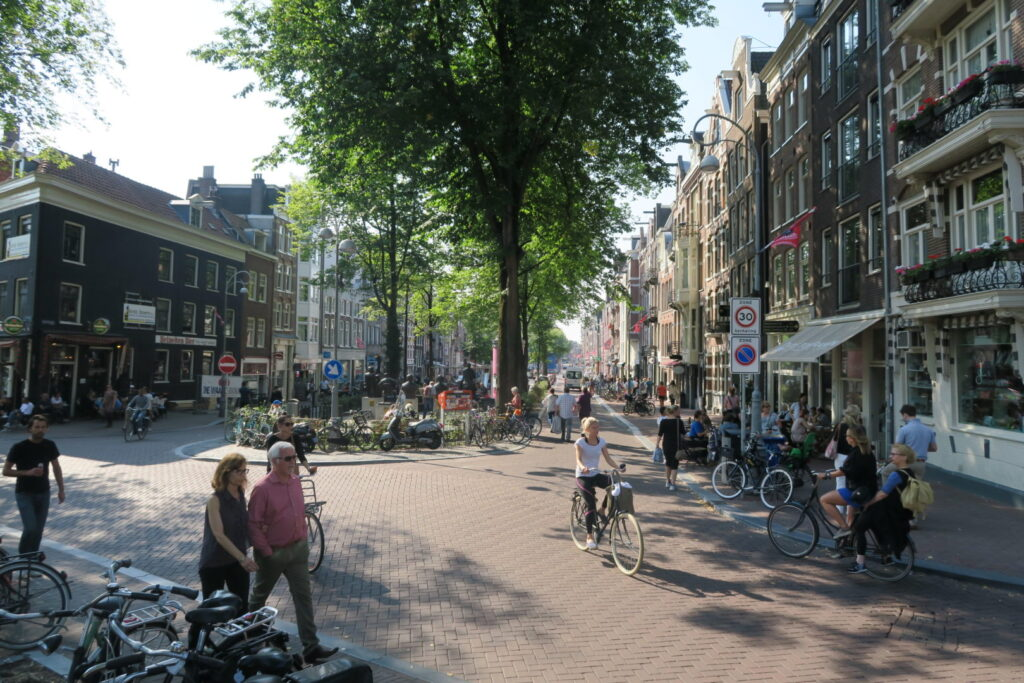commuter: (768, 427, 929, 587), (565, 417, 649, 583)
